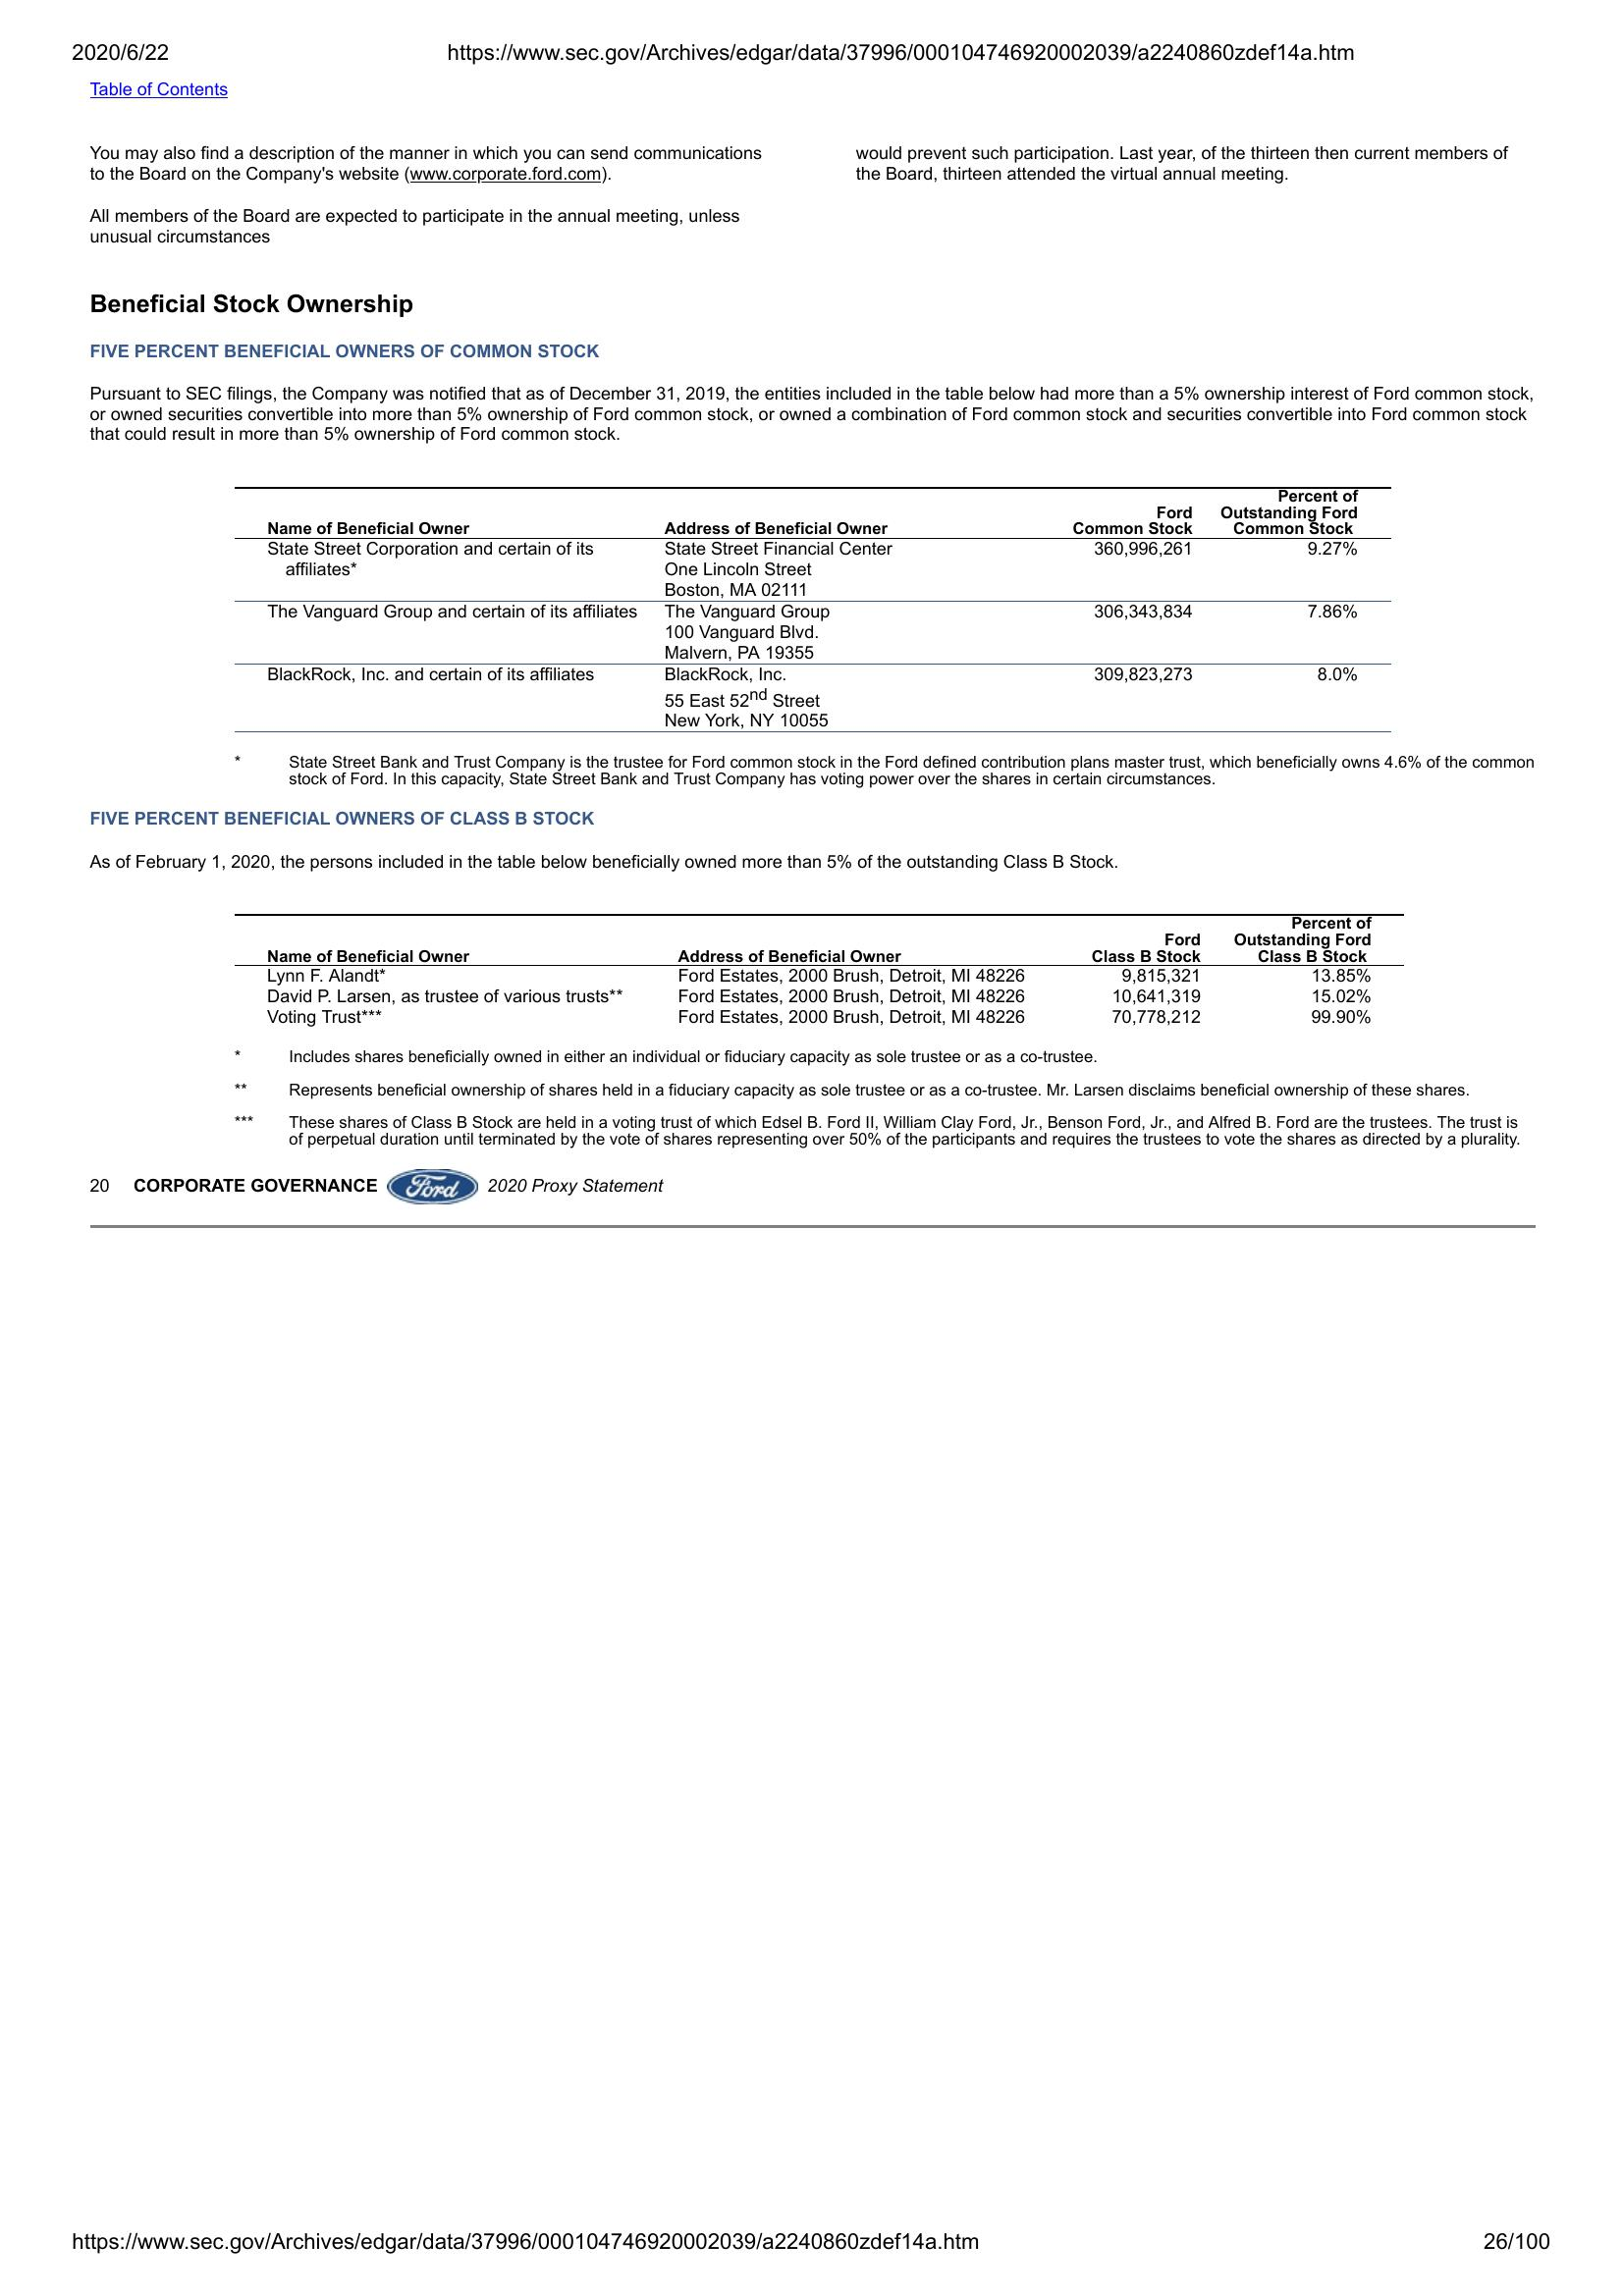table: (232, 484, 1405, 732), (230, 908, 1405, 1032)
